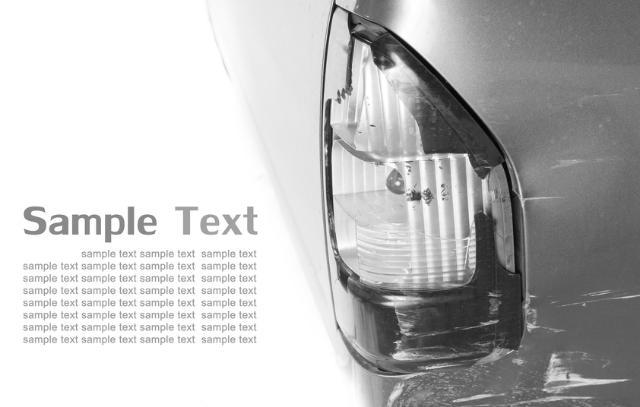Fender: (365, 140, 640, 407)
Light: (325, 16, 520, 347)
